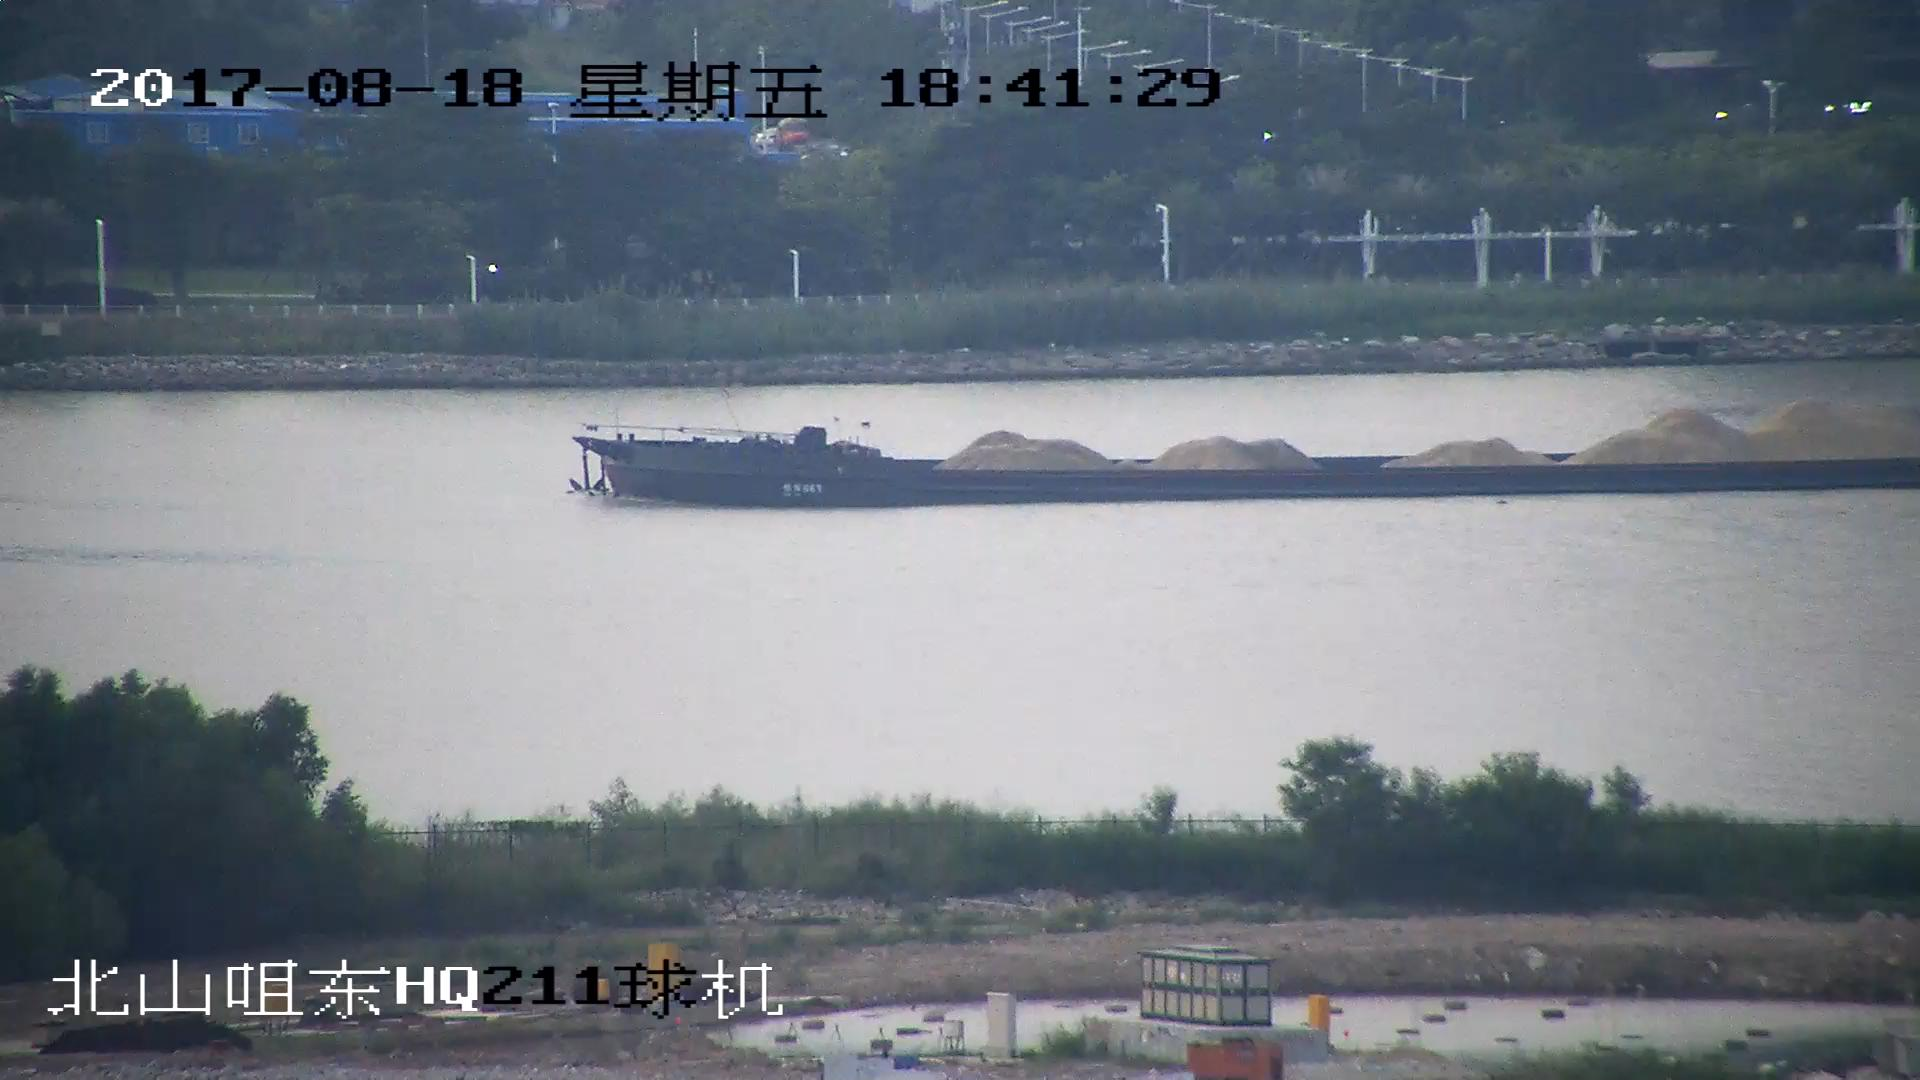ore carrier: (569, 407, 1920, 510)
